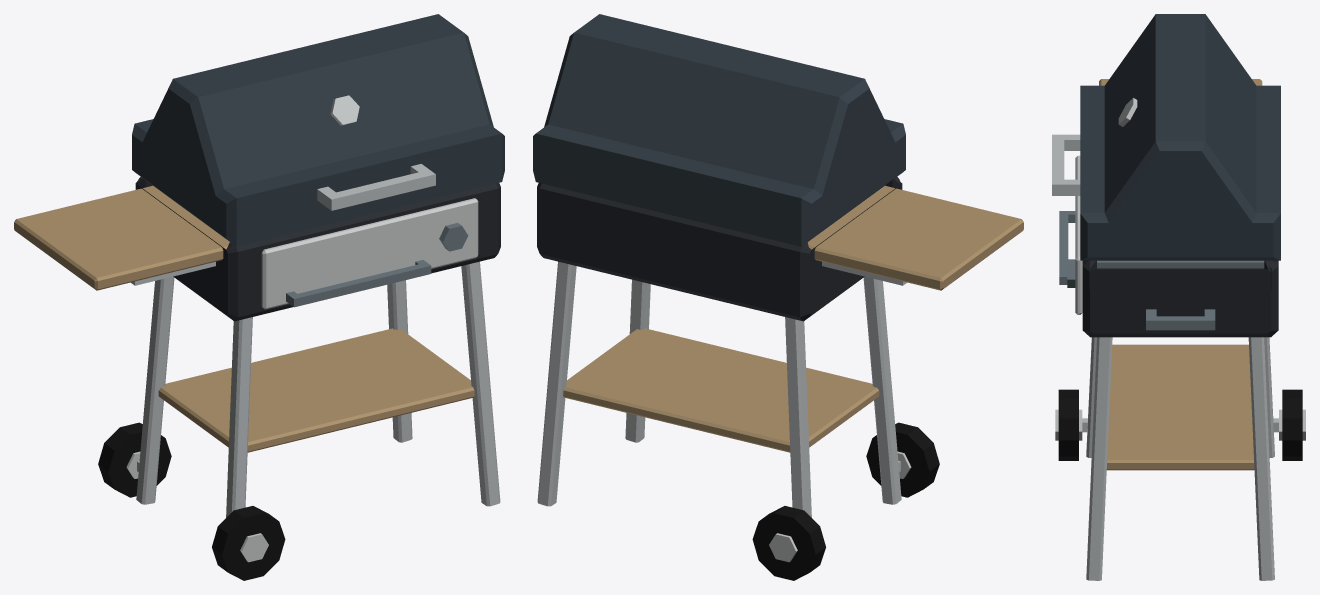
The model's file is backyard-barbecue-grill-84d4ef.glb.
3 views of the same model, side by side, from view 1: azimuth 30°, elevation 25°; view 2: azimuth 150°, elevation 25°; view 3: azimuth 270°, elevation 25° (orthographic).
Parts seen in each view (by area): view 1: wheel-l-front-mesh; view 2: wheel-l-front-mesh; view 3: wheel-l-front-mesh.
Boxes of the visible parts, x1=… form: wheel-l-front-mesh: x1=14, y1=14, x2=504, y2=580; wheel-l-front-mesh: x1=533, y1=14, x2=1023, y2=580; wheel-l-front-mesh: x1=1052, y1=14, x2=1305, y2=580.
Bounding box in the file's own units: 1.18 × 1.19 × 0.6221.
